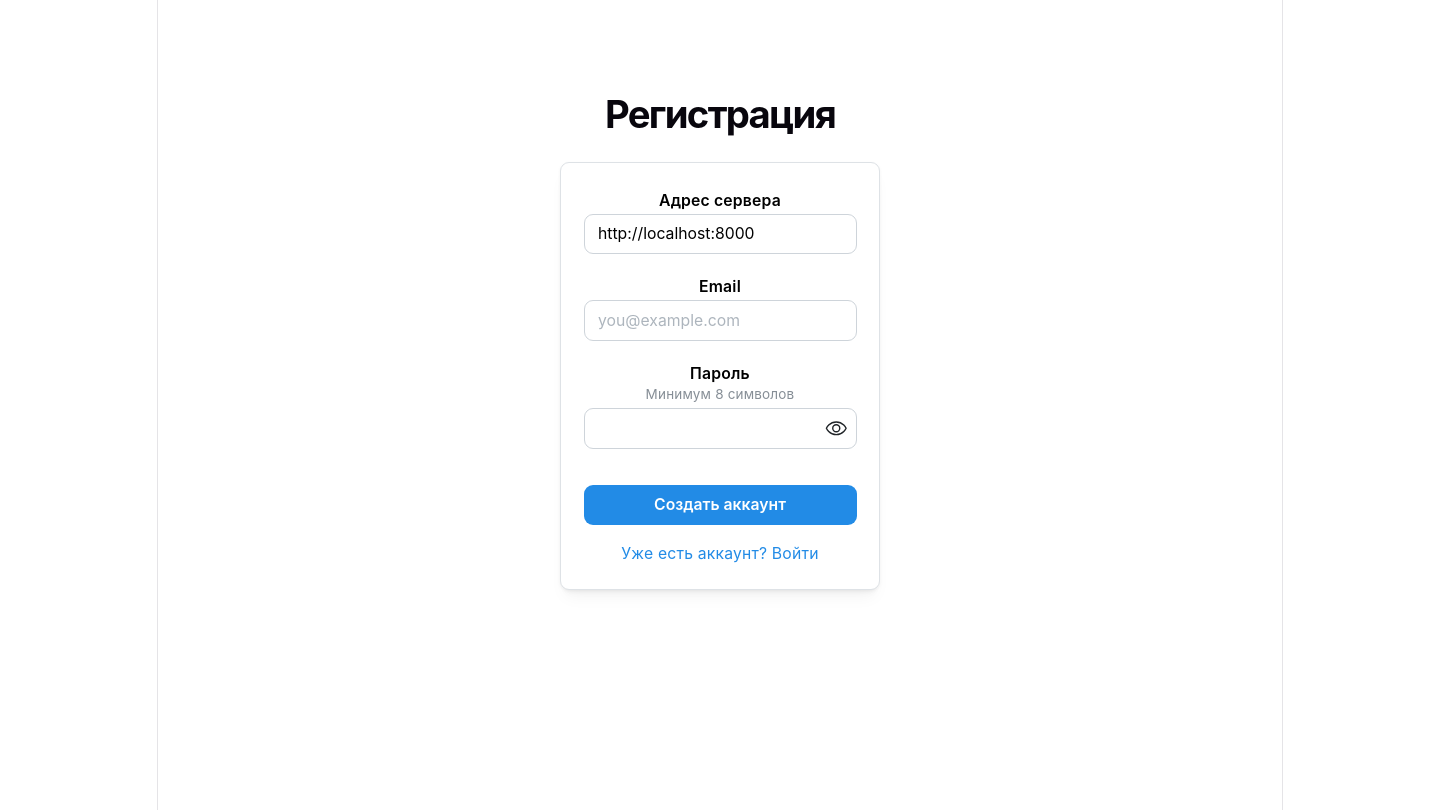
Scenario: в приложении ответ сервера с ошибкой не выдаётся за проблему адреса
Type "a@b.c" into the field labelled "Email" at coordinates (720, 320), box top-left (584, 300), bottom-right (856, 340)
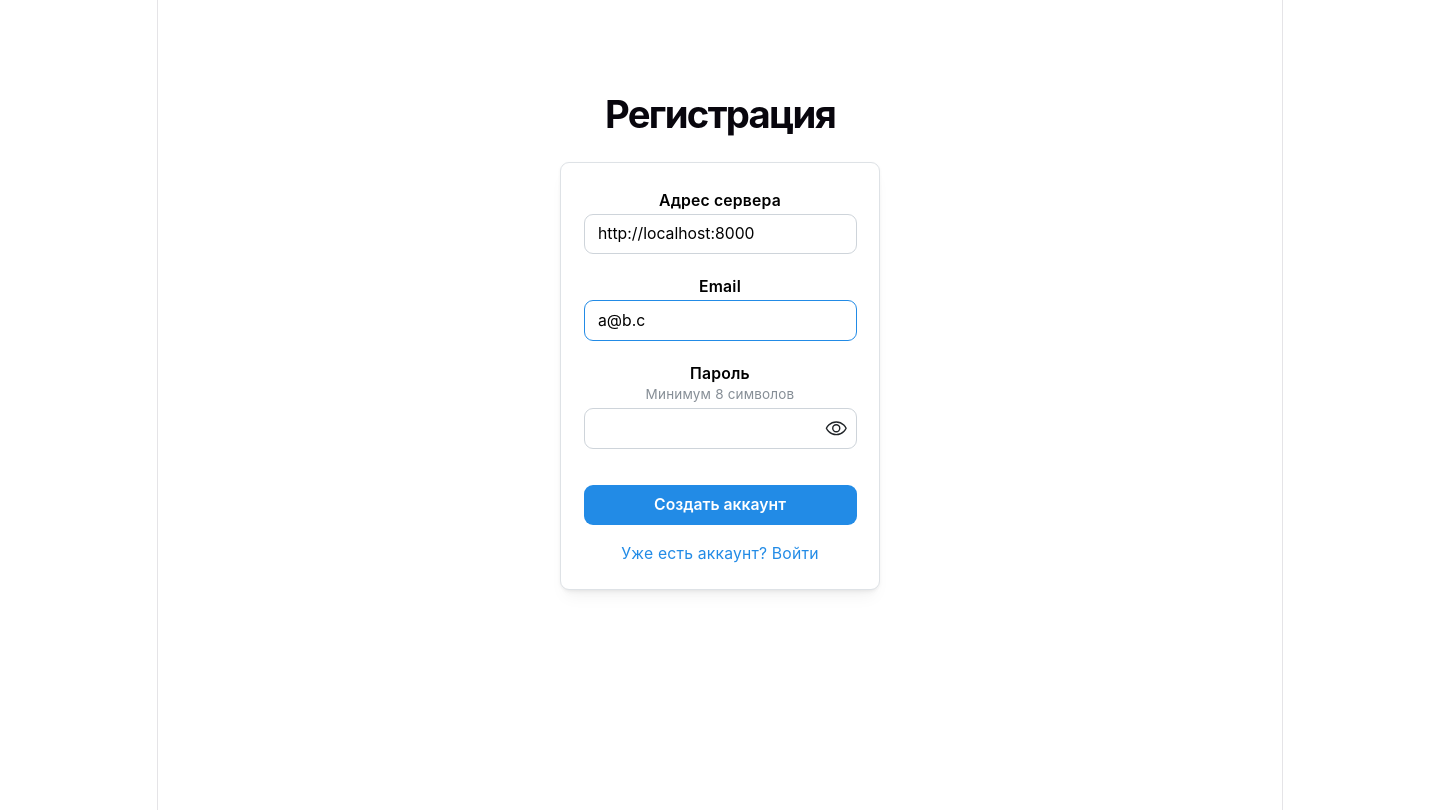
Type "password123" into the password field labelled "Пароль" at coordinates (720, 428), box top-left (584, 409), bottom-right (856, 448)
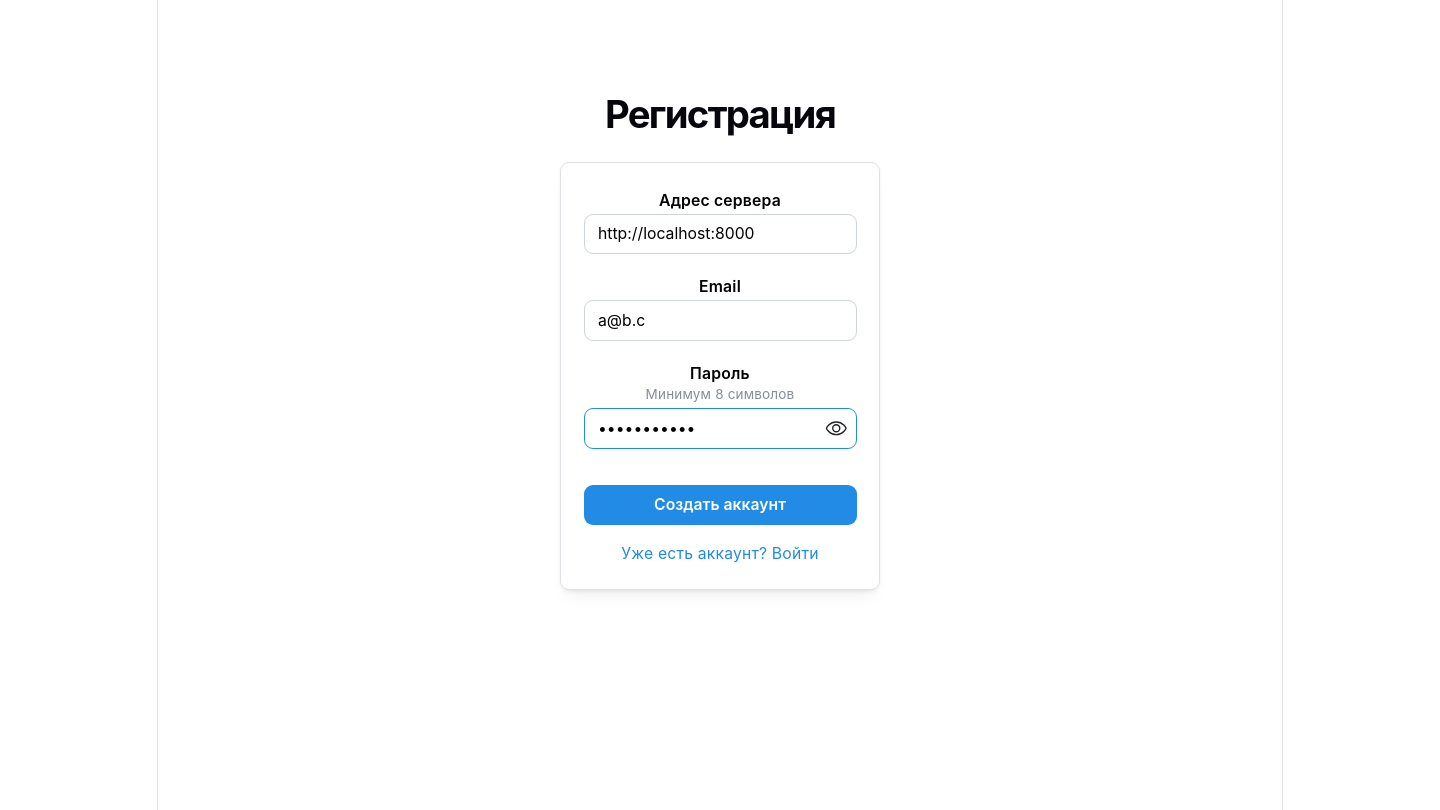
Click the button "Создать аккаунт" at coordinates (720, 505), box top-left (584, 485), bottom-right (856, 525)
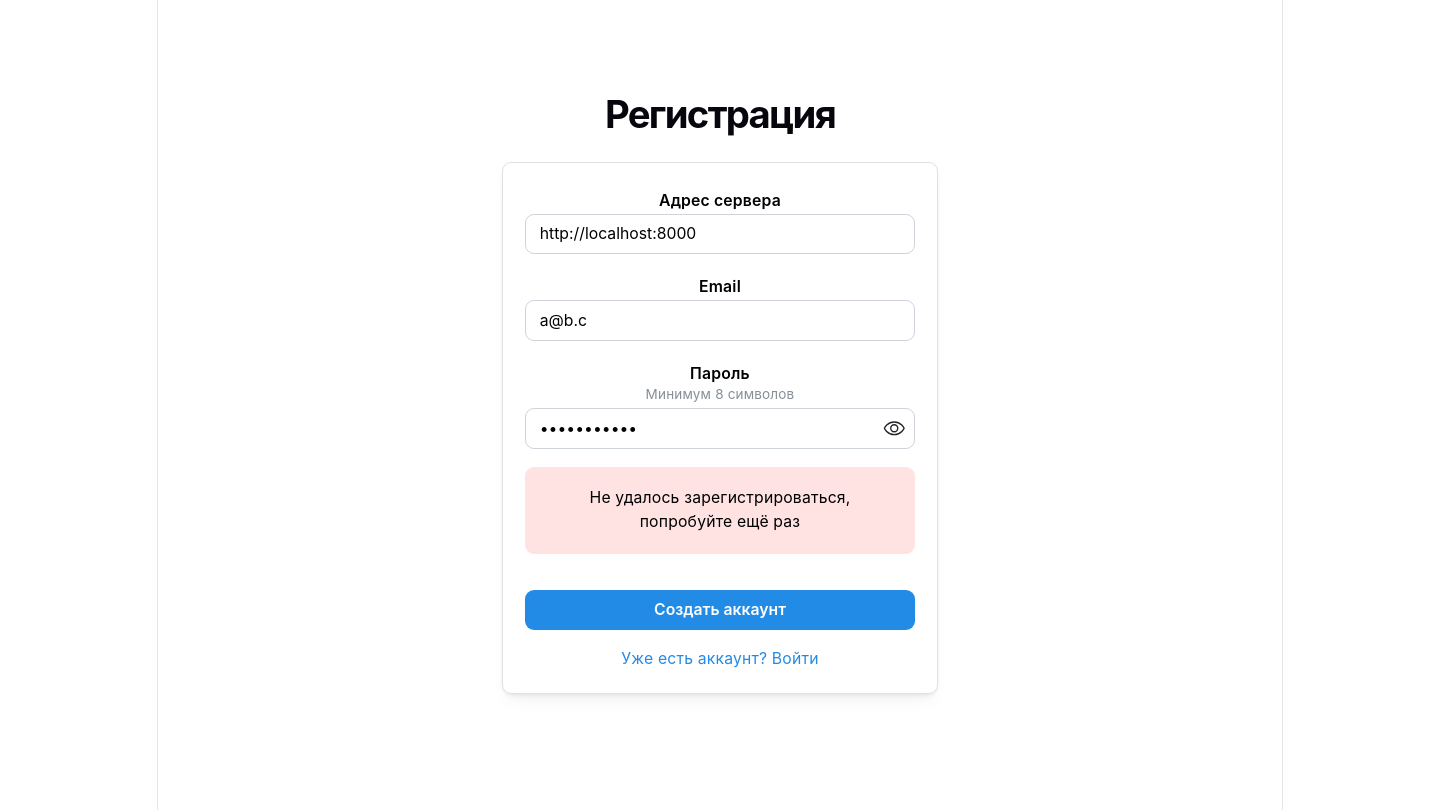
Result: the text "Не удалось зарегистрироваться, попробуйте ещё раз" is shown at top-left (590, 488), bottom-right (850, 531)
